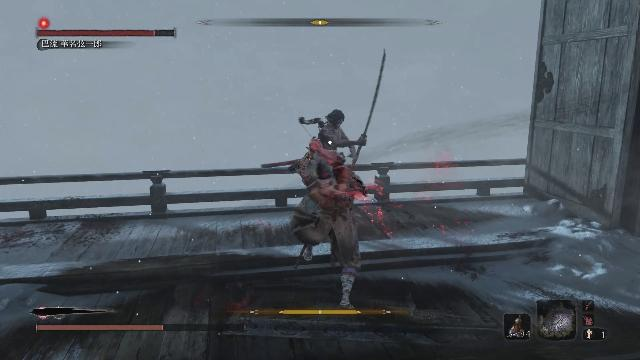sk: (285, 145, 367, 314)
